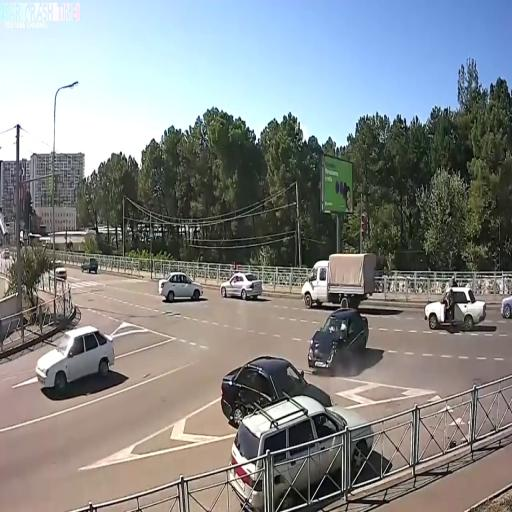小汽车: (228, 394, 374, 512), (221, 356, 333, 426), (34, 324, 116, 394), (307, 306, 369, 372), (302, 253, 377, 306), (425, 284, 486, 332), (158, 270, 204, 304), (219, 270, 265, 302), (80, 254, 98, 277)
